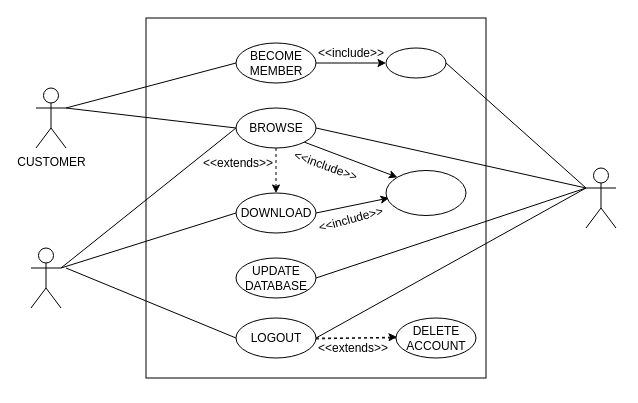
Some shapes in this 638 by 403 pixel diagram are drawn without their labels. Each missing label, with the centre of its shape:
ADMIN: (600,197)
LOGIN: (415,62)
MEMBER: (45,277)
SEARCH IN DATABASE: (425,193)
